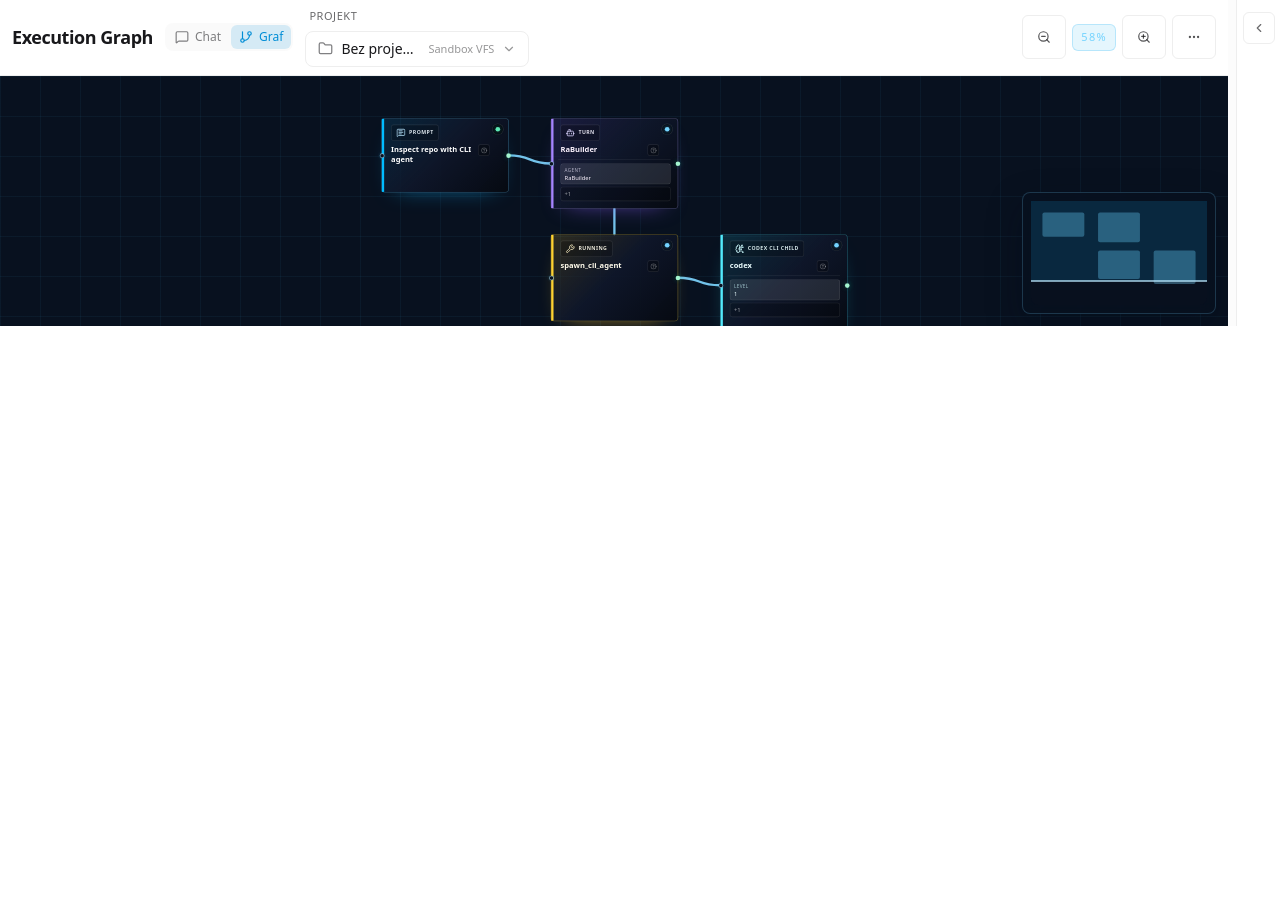
Test: ExecutionGraphView empty-session state › shows reconnect/retry notice when stopping a CLI child run fails
Click the element with test id "graph-node-cli-agent:cli-child-1".
click(784, 285)  # box [720,234,848,336]
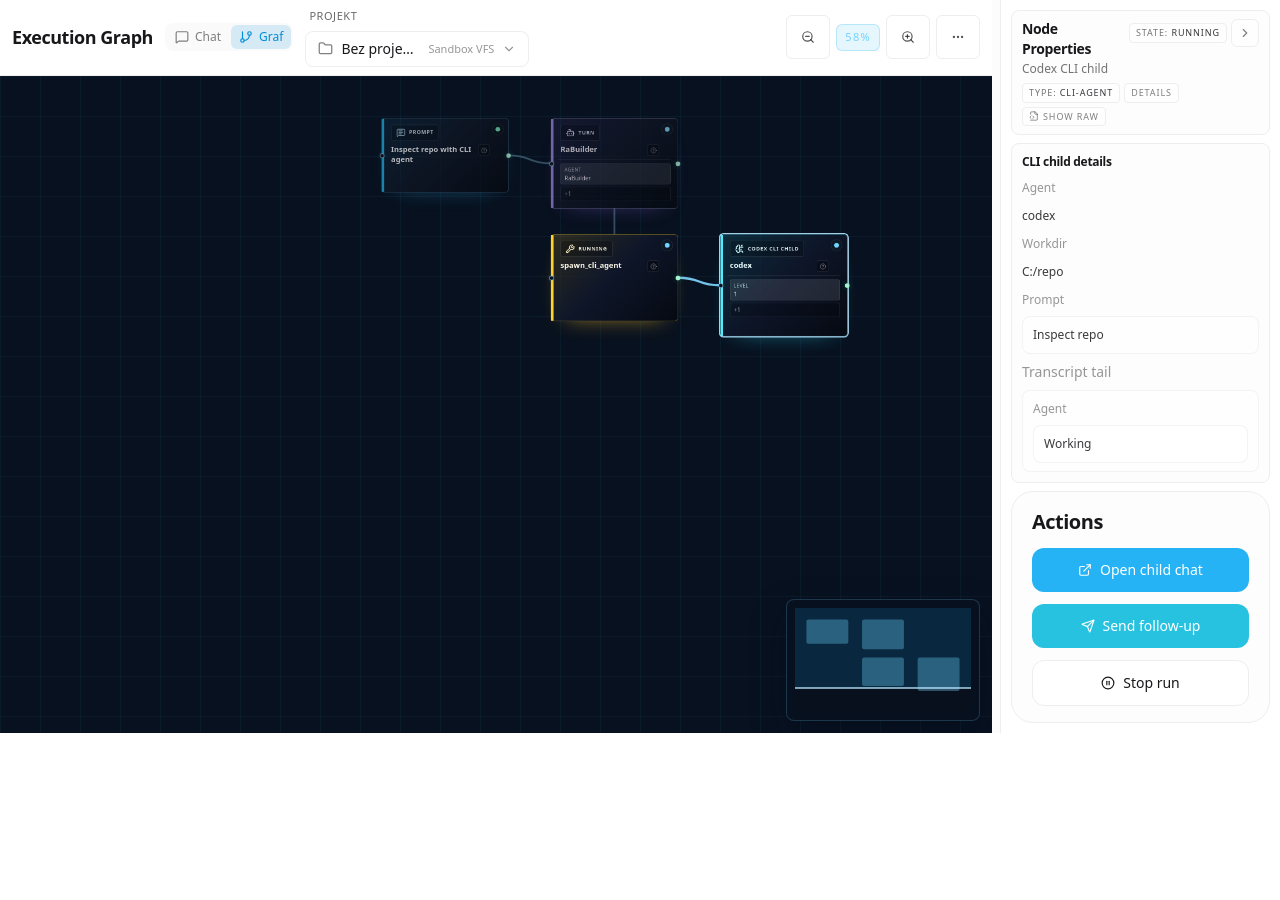
Click the button "Stop run".
click(1140, 683)  # box [1032,660,1249,706]
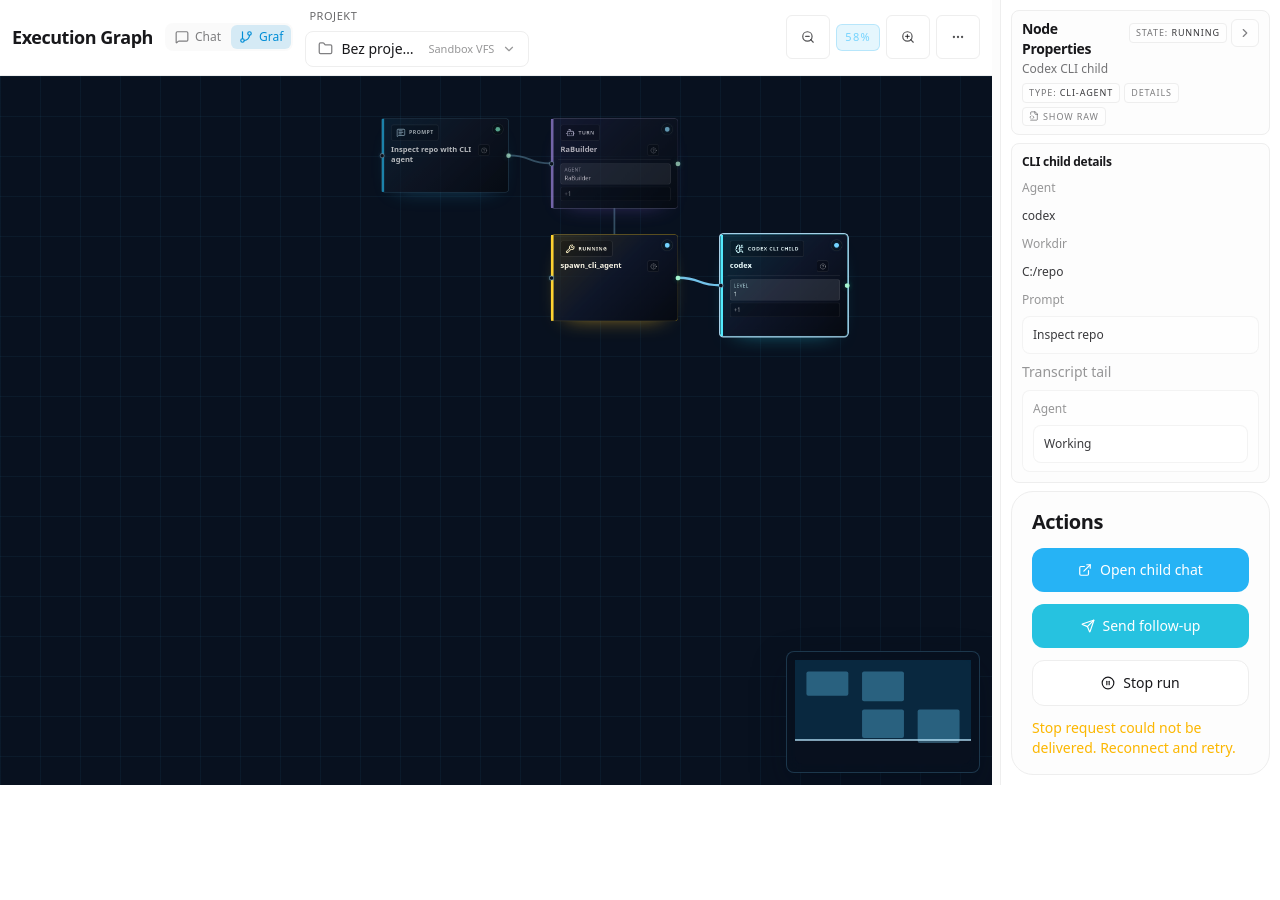
expect the text "Stop request could not be delivered. Reconnect and retry." is shown: met, box [1032,718,1249,758]
